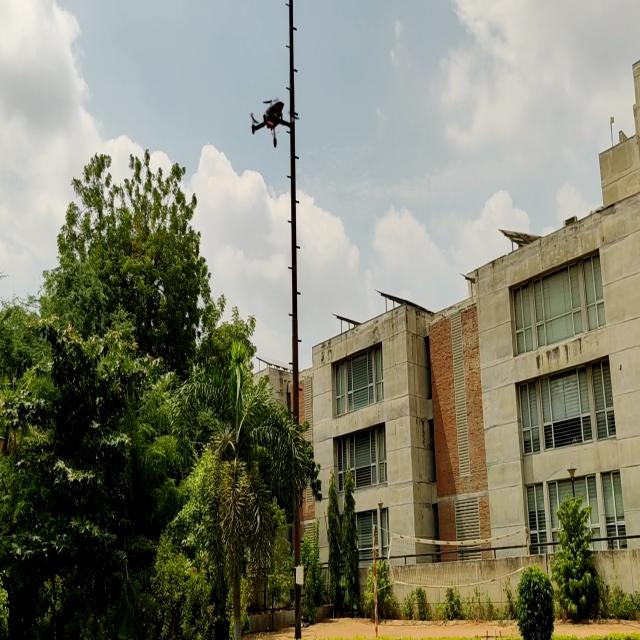drone: (243, 96, 303, 149)
